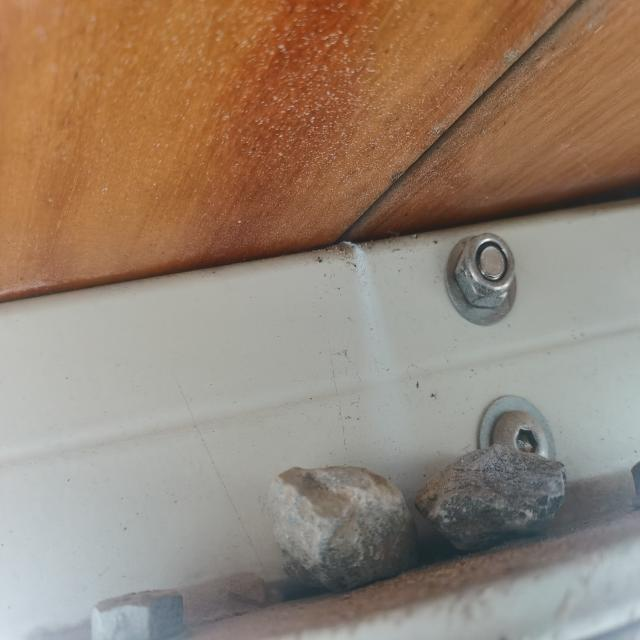bolt nut: (451, 229, 518, 314)
